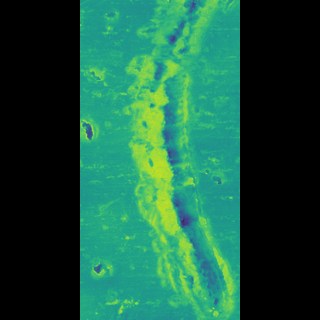Loch: (141, 0, 198, 320), (131, 290, 159, 319), (121, 63, 138, 101), (121, 249, 138, 282), (120, 115, 129, 145)
